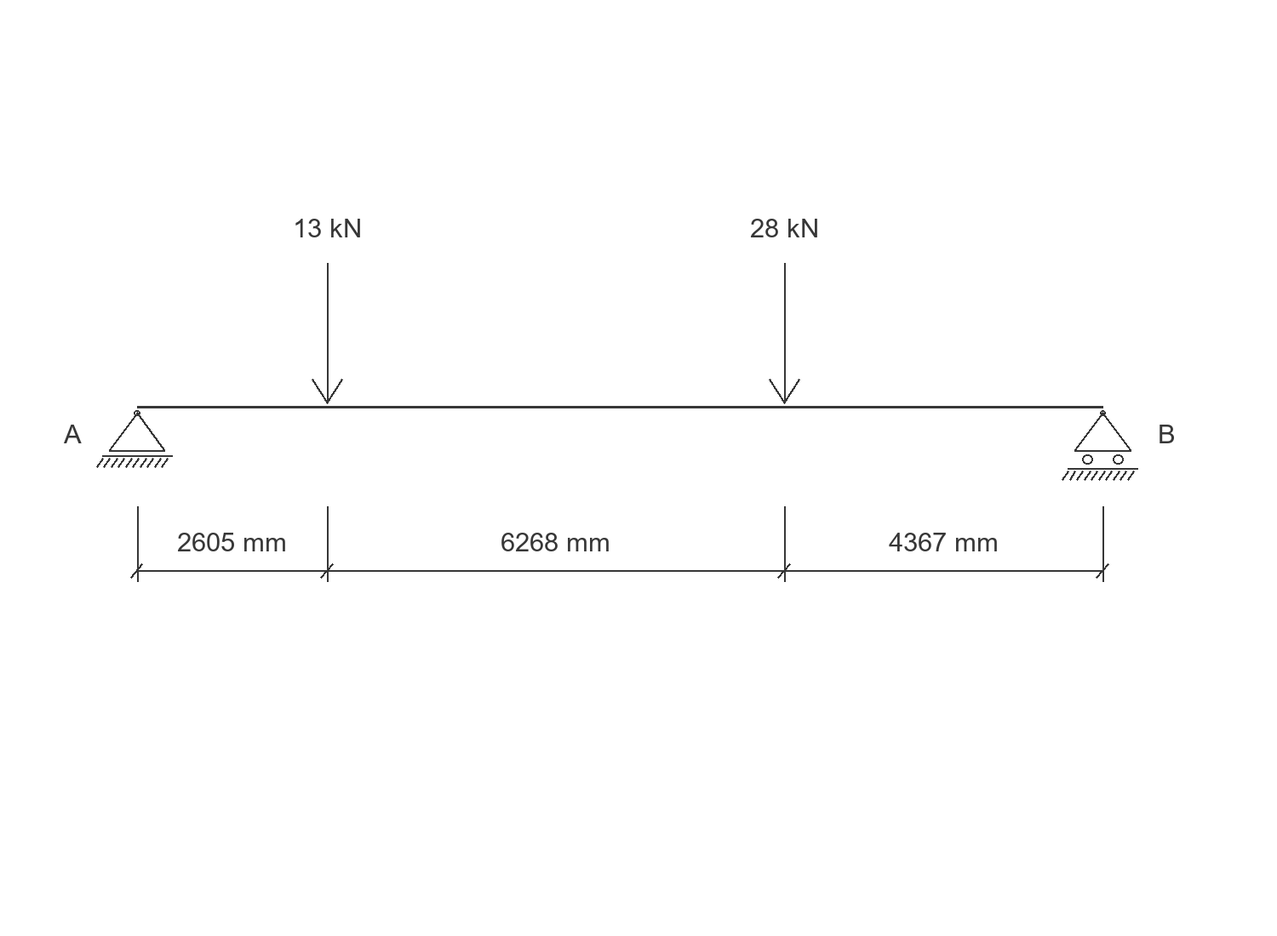pin_support: (96, 410, 173, 468)
point_load: (312, 263, 343, 404), (769, 263, 800, 404)
roller_support: (1062, 410, 1138, 481)
